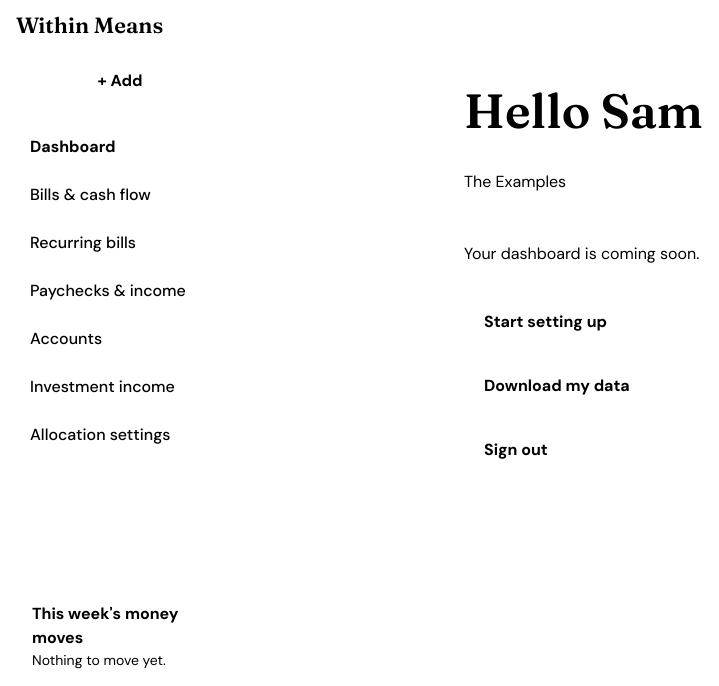
Test: P2-08 getting to the Recurring bills page › shows a generic error when who you are cannot be loaded
Expected: the heading "Hello Sam" is shown, [464,85,703,138]
Click the link "Recurring bills" at coordinates (83, 243), box [30,232,136,253]
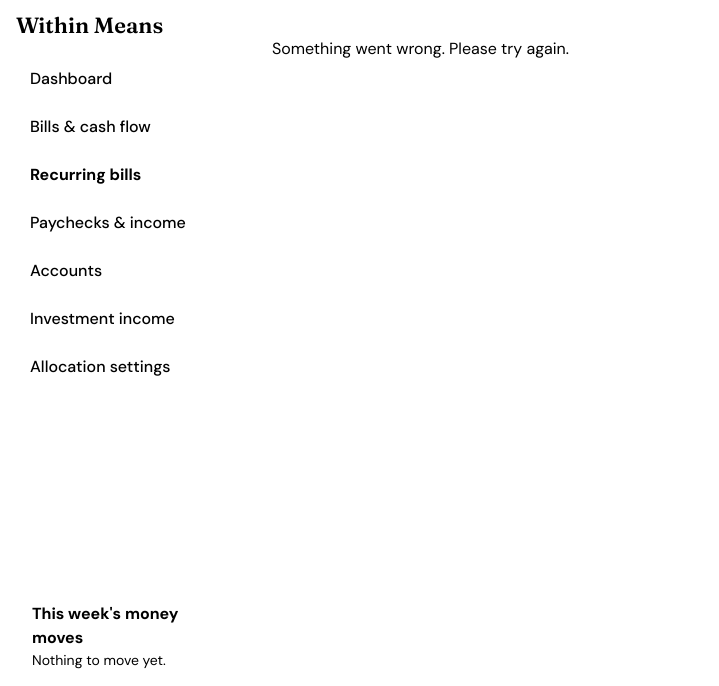
Expected: the message shows "Something went wrong", [272,38,569,59]
